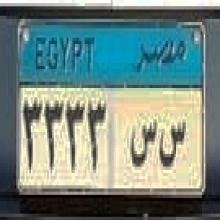3: (86, 96, 109, 174), (43, 94, 64, 176), (64, 99, 86, 173), (22, 94, 42, 173)
seen: (126, 107, 156, 175), (159, 115, 189, 171)
